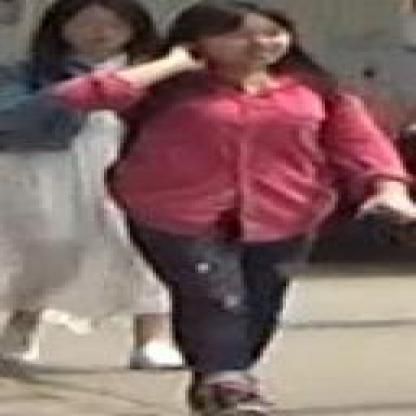adult: (47, 1, 414, 414), (3, 1, 171, 373)
